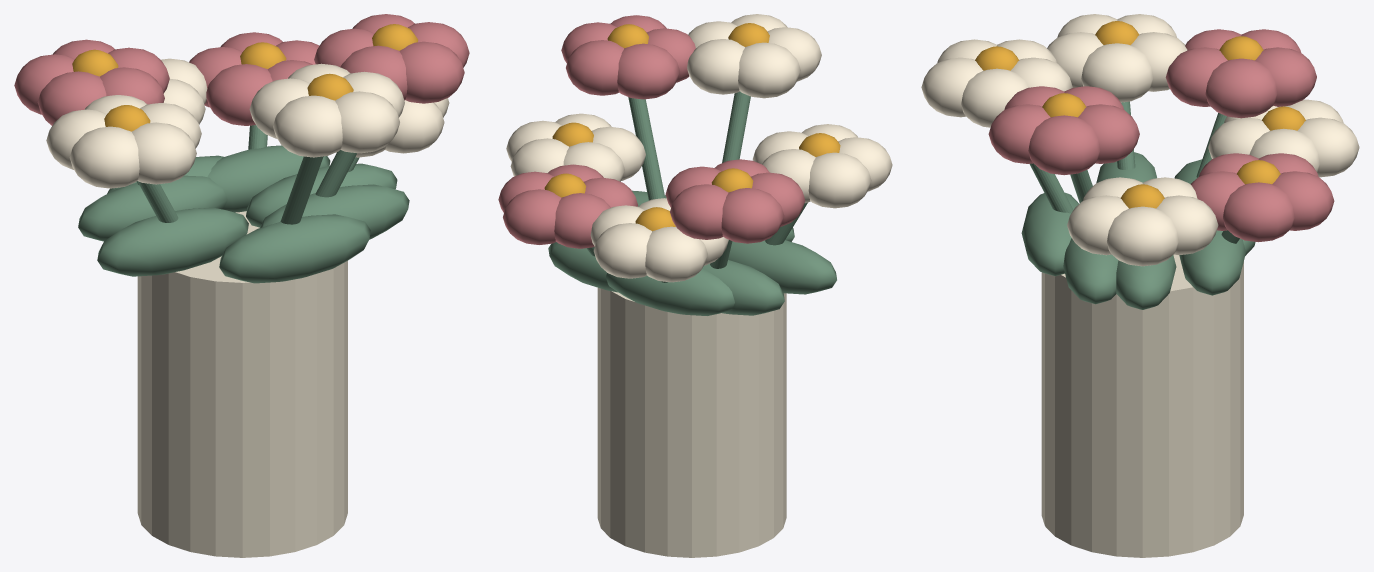
The model's file is flower_centerpiece.glb.
3 views of the same model, side by side, from view 1: azimuth 30°, elevation 25°; view 2: azimuth 150°, elevation 25°; view 3: azimuth 270°, elevation 25° (orthographic). The views are drawn at different scales.
Parts seen in each view (by area): view 1: flower_centerpiece; view 2: flower_centerpiece; view 3: flower_centerpiece.
Part boxes in pixels (x1=…): flower_centerpiece: x1=14, y1=14, x2=469, y2=557; flower_centerpiece: x1=498, y1=14, x2=892, y2=557; flower_centerpiece: x1=921, y1=14, x2=1359, y2=557.
Size of the model in its own units: 0.3895 by 0.463 by 0.3897.
